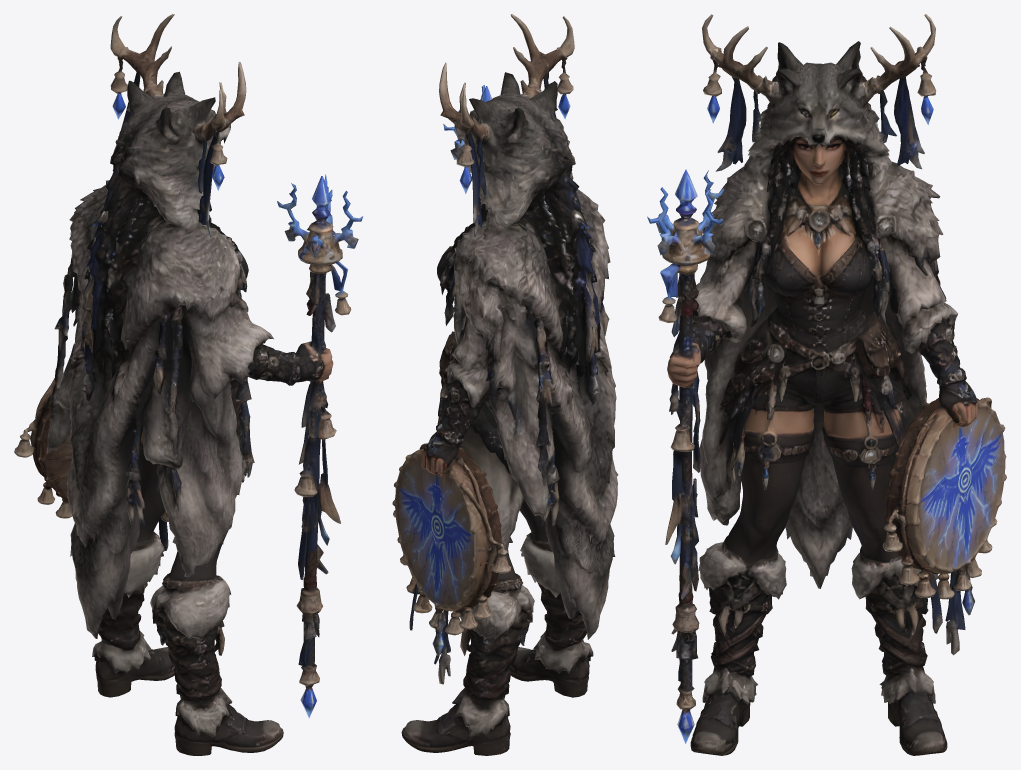
File: drumcaller-GreyjawPelt-tripo.glb
The picture shows the model from 3 angles, left to right: view 1: azimuth 30°, elevation 25°; view 2: azimuth 150°, elevation 25°; view 3: azimuth 270°, elevation 25°; orthographic projection. The views are drawn at different scales.
Visible parts, largest first — view 1: tripo_node_b191e5d5-cb77-41d4-a201-0ae73261153e; view 2: tripo_node_b191e5d5-cb77-41d4-a201-0ae73261153e; view 3: tripo_node_b191e5d5-cb77-41d4-a201-0ae73261153e.
Part boxes in pixels (x1=…): tripo_node_b191e5d5-cb77-41d4-a201-0ae73261153e: x1=14, y1=14, x2=363, y2=755; tripo_node_b191e5d5-cb77-41d4-a201-0ae73261153e: x1=392, y1=14, x2=618, y2=755; tripo_node_b191e5d5-cb77-41d4-a201-0ae73261153e: x1=647, y1=14, x2=1006, y2=755.
Size of the model in its own units: 0.3268 by 1 by 0.4509.
Materials: 1 (1 with a texture image).
